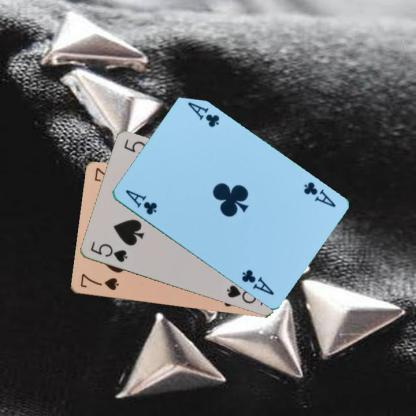5s: (88, 239, 128, 264)
7s: (78, 271, 120, 292)
Ac: (300, 179, 337, 209), (122, 186, 158, 216)
